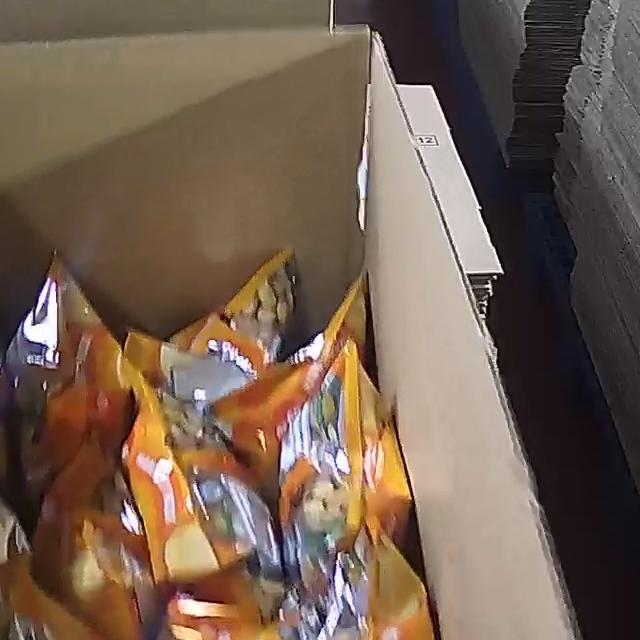cheese: (0, 252, 477, 640)
